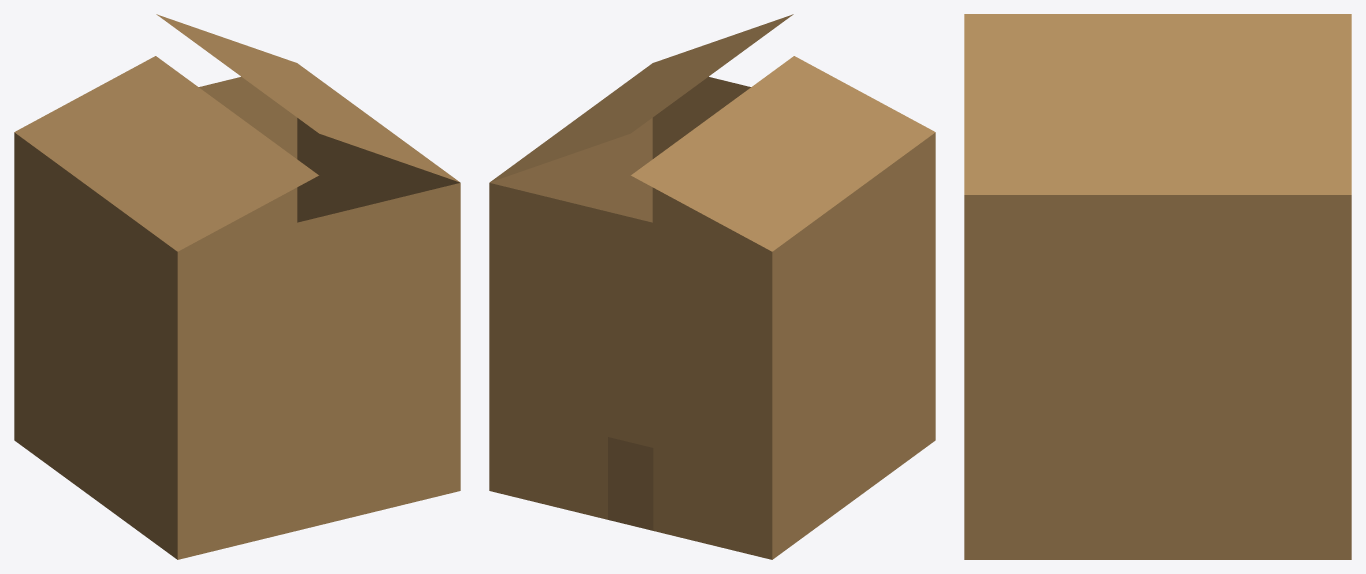
File: cardboardBoxClosed.glb
3 views of the same model, side by side, from view 1: azimuth 30°, elevation 25°; view 2: azimuth 150°, elevation 25°; view 3: azimuth 270°, elevation 25° (orthographic). The views are drawn at different scales.
Parts seen in each view (by area): view 1: cardboardBoxClosed; view 2: cardboardBoxClosed; view 3: cardboardBoxClosed.
Part boxes in pixels (box(x1,y1,x2,y2)): cardboardBoxClosed: box(14, 14, 460, 559); cardboardBoxClosed: box(489, 14, 935, 559); cardboardBoxClosed: box(964, 14, 1351, 559).
Bounding box in the file's own units: 0.425 × 0.562 × 0.425.
